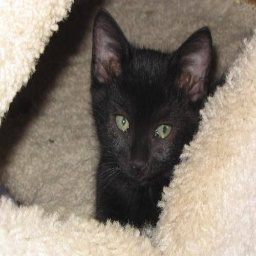cat: (83, 11, 221, 221)
